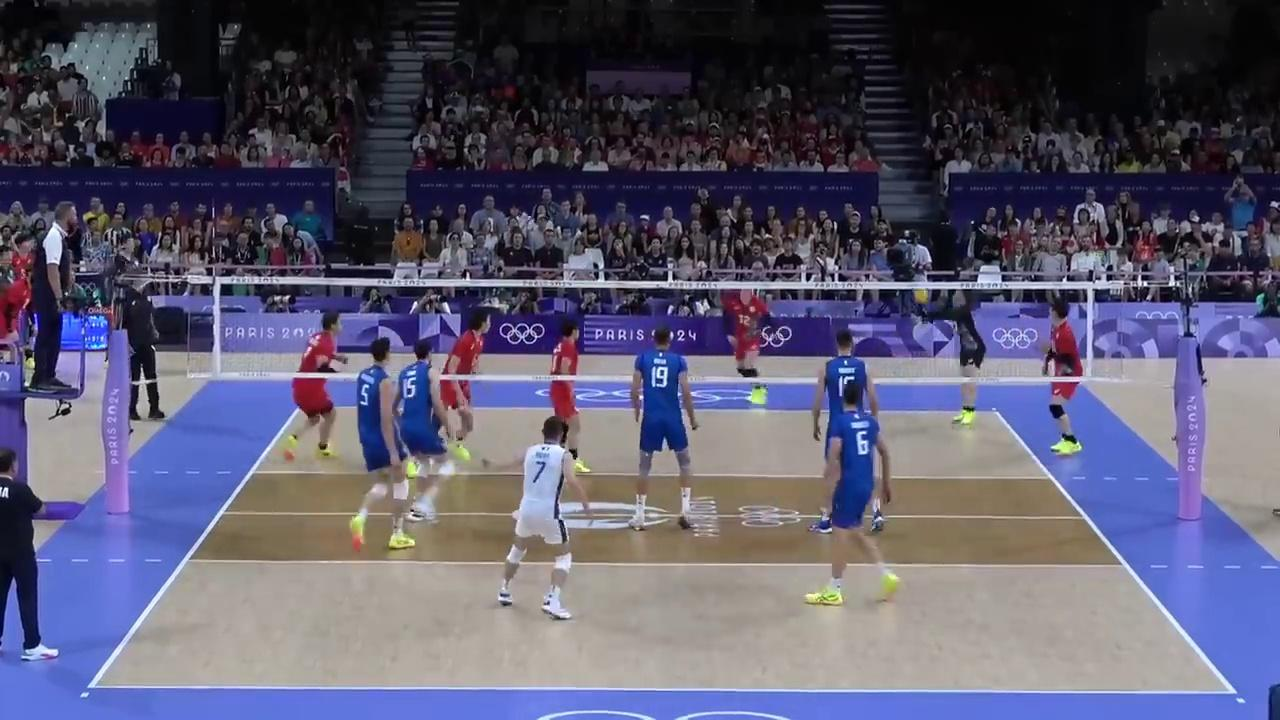ball: (911, 288, 929, 304)
